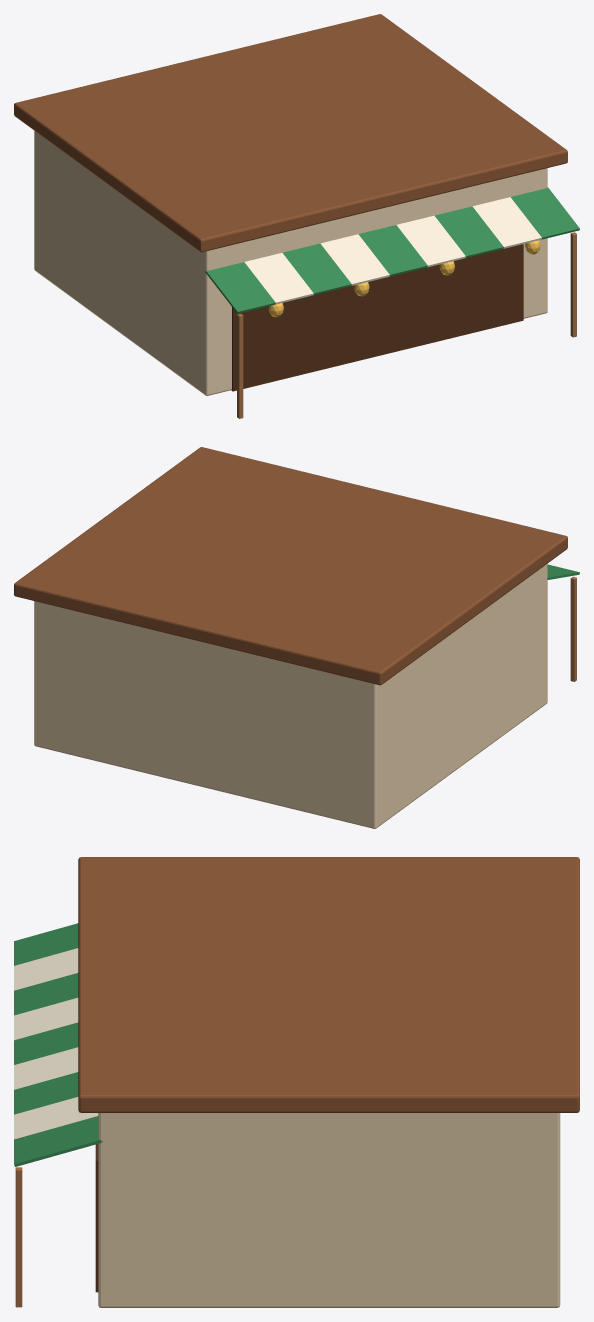
Rendered from quan.glb.
3 views of the same model, one above another, from view 1: azimuth 30°, elevation 25°; view 2: azimuth 150°, elevation 25°; view 3: azimuth 270°, elevation 25° (orthographic). The views are drawn at different scales.
Parts seen in each view (by area): view 1: quan-1, quan-0, quan-2, quan-9, quan-11, quan-12, quan-10, quan-13, quan-14, quan-17, quan-15, quan-16 (+2 smaller); view 2: quan-1, quan-0, quan-18; view 3: quan-1, quan-0, quan-17, quan-16, quan-9, quan-13, quan-11, quan-12, quan-14, quan-15, quan-10, quan-19 (+1 smaller).
Part boxes in pixels (bbox=[...]): quan-1: bbox=[14, 14, 567, 252]; quan-0: bbox=[34, 131, 547, 395]; quan-2: bbox=[231, 244, 523, 391]; quan-9: bbox=[205, 262, 275, 313]; quan-11: bbox=[282, 243, 351, 294]; quan-12: bbox=[320, 234, 389, 285]; quan-10: bbox=[244, 253, 313, 304]; quan-13: bbox=[358, 225, 427, 276]; quan-14: bbox=[397, 215, 465, 267]; quan-17: bbox=[510, 187, 579, 239]; quan-15: bbox=[435, 206, 503, 257]; quan-16: bbox=[472, 197, 541, 248]; quan-1: bbox=[14, 447, 567, 685]; quan-0: bbox=[34, 564, 547, 828]; quan-18: bbox=[570, 576, 576, 681]; quan-1: bbox=[78, 857, 579, 1112]; quan-0: bbox=[98, 1113, 560, 1307]; quan-17: bbox=[14, 1116, 102, 1166]; quan-16: bbox=[14, 1097, 98, 1139]; quan-9: bbox=[14, 923, 78, 965]; quan-13: bbox=[14, 1022, 78, 1064]; quan-11: bbox=[14, 973, 78, 1015]; quan-12: bbox=[14, 997, 78, 1040]; quan-14: bbox=[14, 1047, 78, 1089]; quan-15: bbox=[14, 1072, 78, 1114]; quan-10: bbox=[14, 948, 78, 990]; quan-19: bbox=[15, 1167, 22, 1307].
Size of the model in its own units: 8.6 by 3.7 by 8.58.
